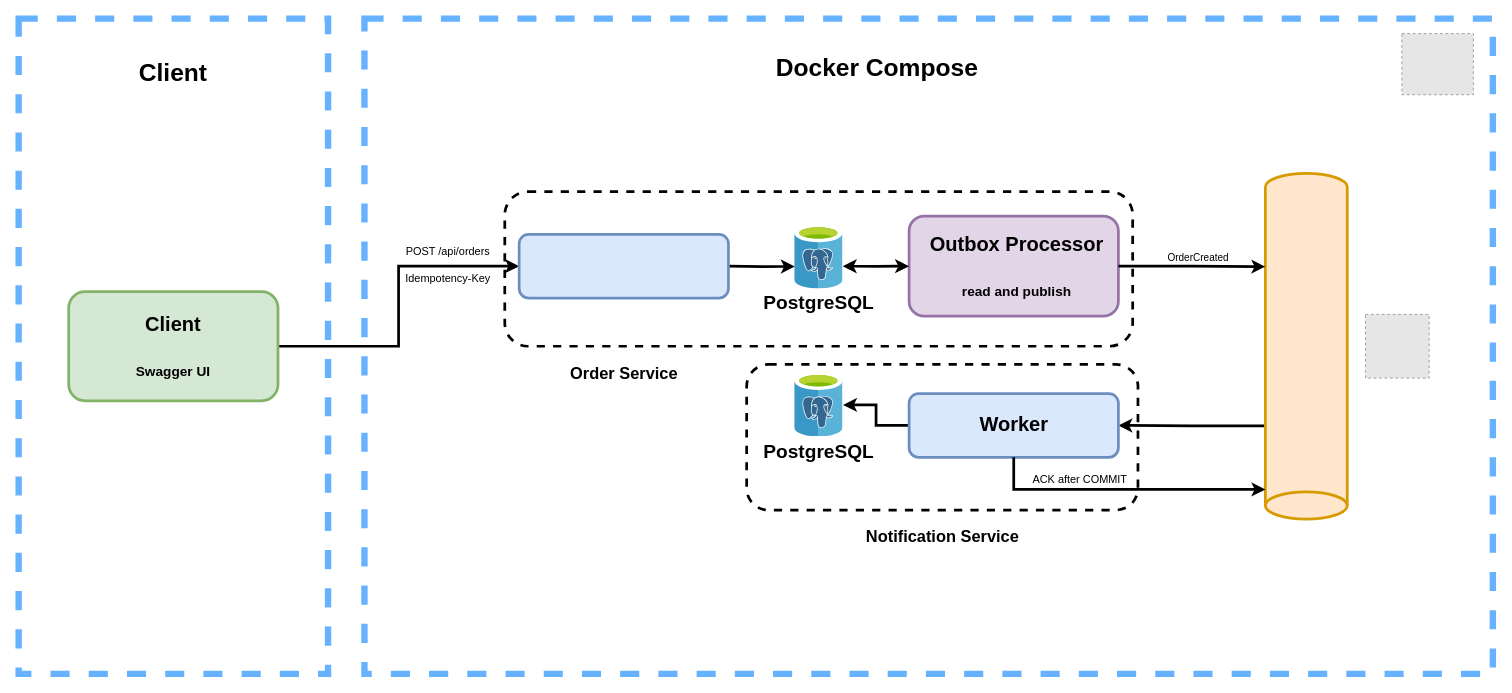
The diagram is 1512 pixels wide and 693 high, and some of its shapes have lost their labels. Grey dashed boxes stand in for pictures. Here are the shapes that lost their labels. From the top down, the centre of each, then its label:
the point at 623,266: OrderService
the point at 1306,346: RabbitMQ
